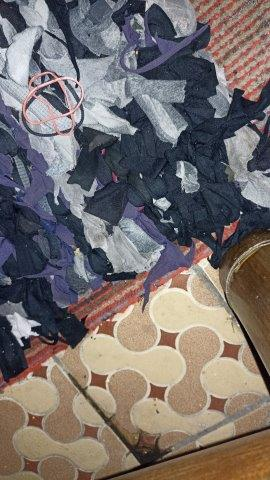karet: (21, 71, 85, 137)
